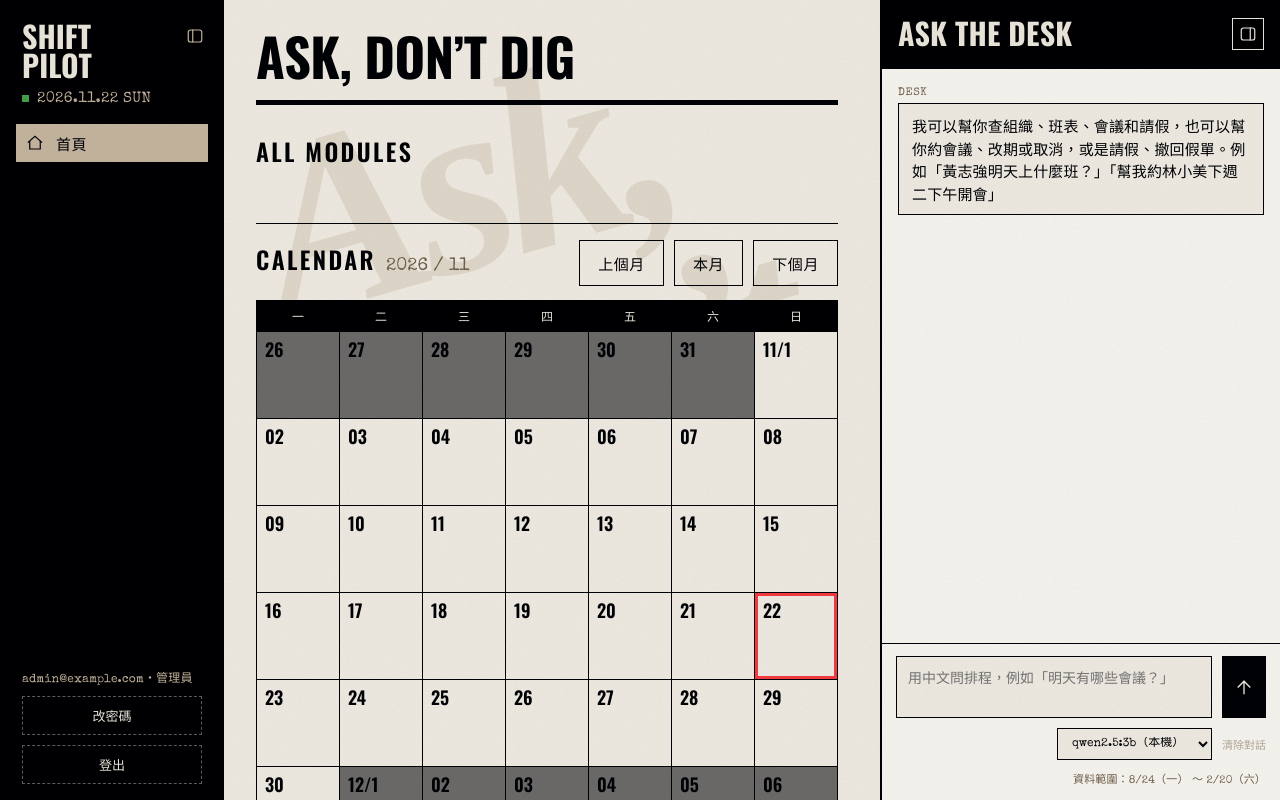
it: testParticipantConflictThenOverride
The image size is (1280, 800).
Expected: the element named "問答面板" is shown, [880,0,1279,799]
Expected: the dropdown named "模型" is shown, [1057,728,1212,760]
Type "幫我排會議" into the text box named "問題".
click(1054, 687); type("幫我排會議")  # box [896,656,1212,718]
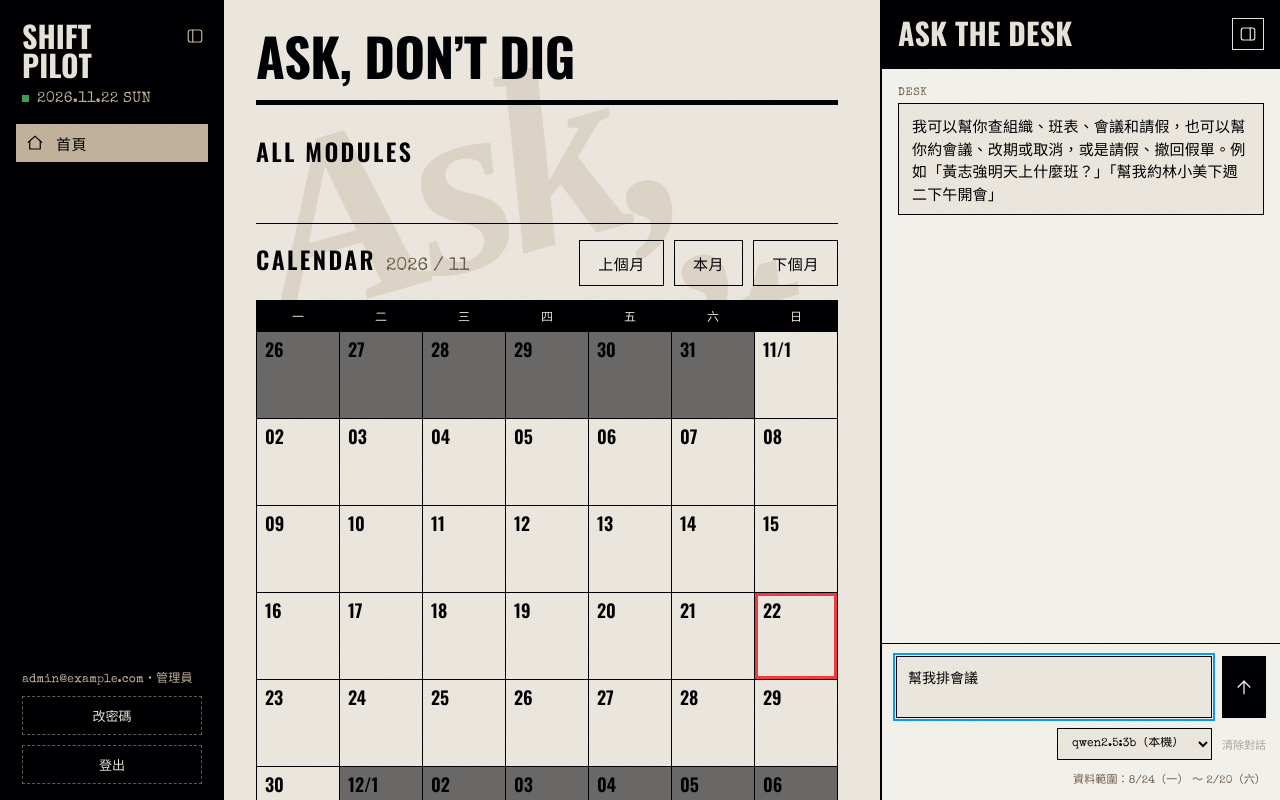
Click the button named "送出".
click(1244, 687)  # box [1222,656,1266,718]
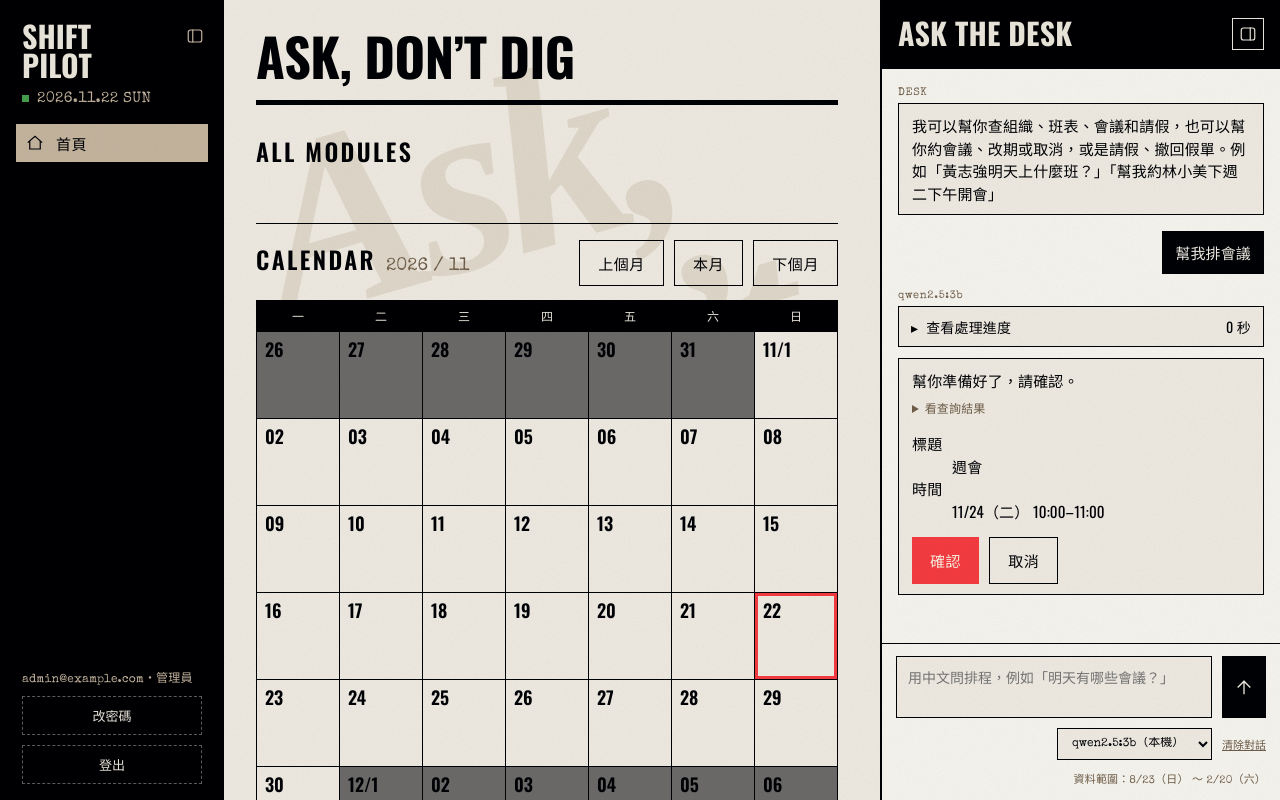
Click the button "確認".
click(946, 560)  # box [912,537,979,584]
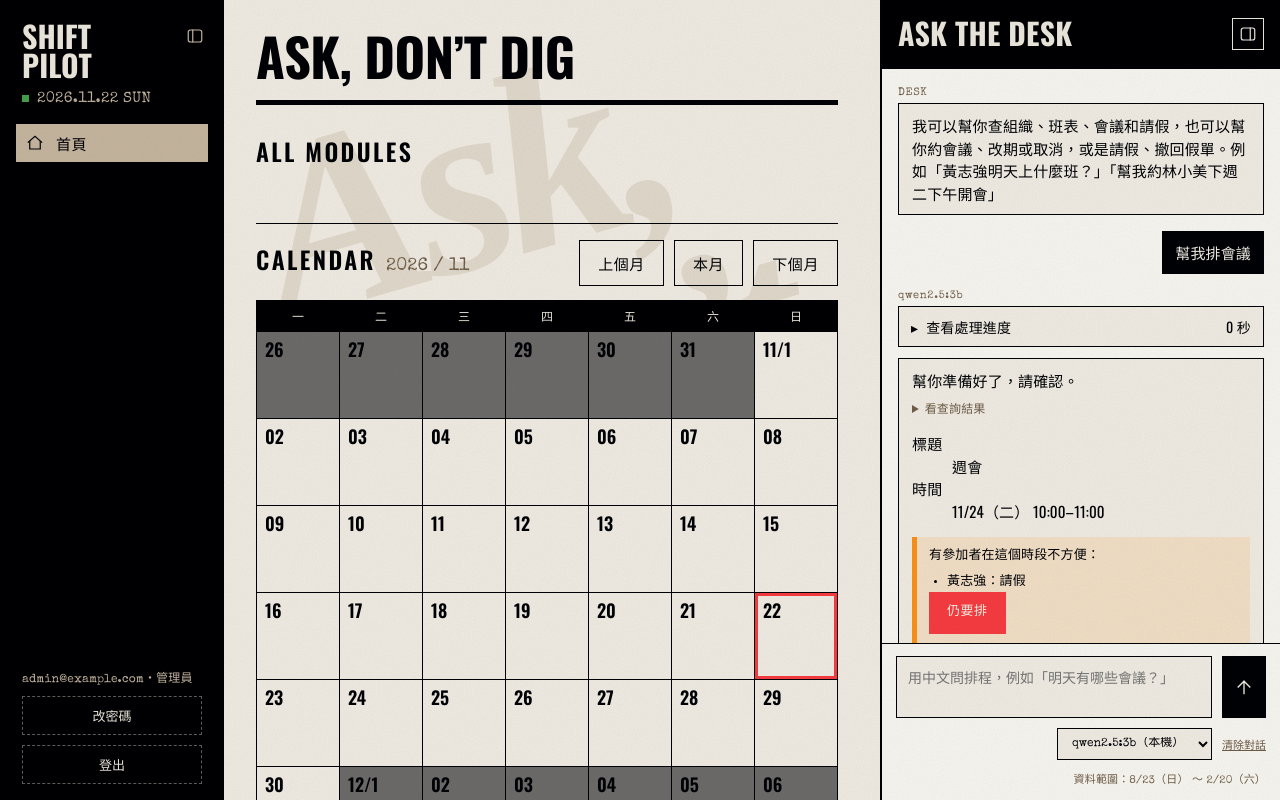
Result: the text "有參加者在這個時段不方便：" is shown at [929,550,1100,563]
Click the button "仍要排".
click(967, 613)  # box [929,592,1006,634]
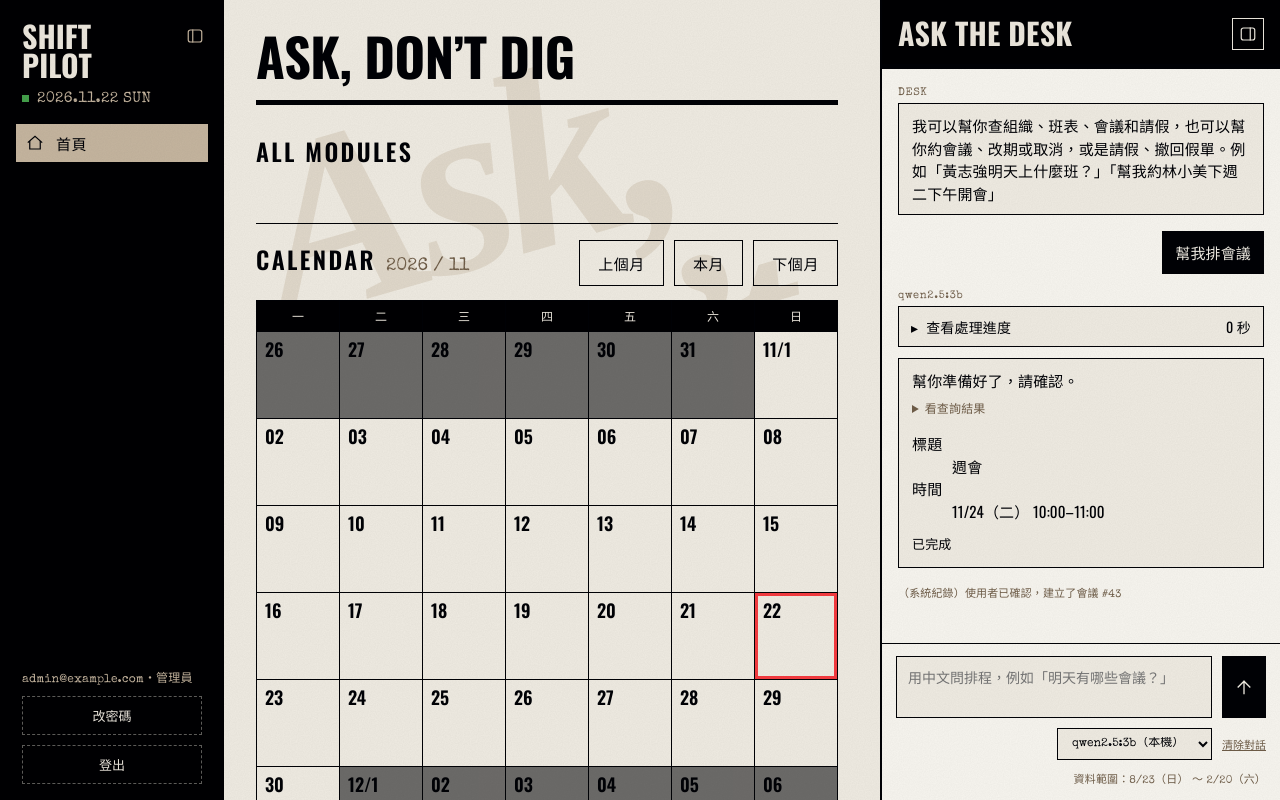
Result: the text "（系統紀錄）使用者已確認，建立了會議 #43" is shown at [898,584,1122,600]
